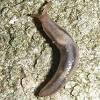slug: (25, 10, 79, 97)
